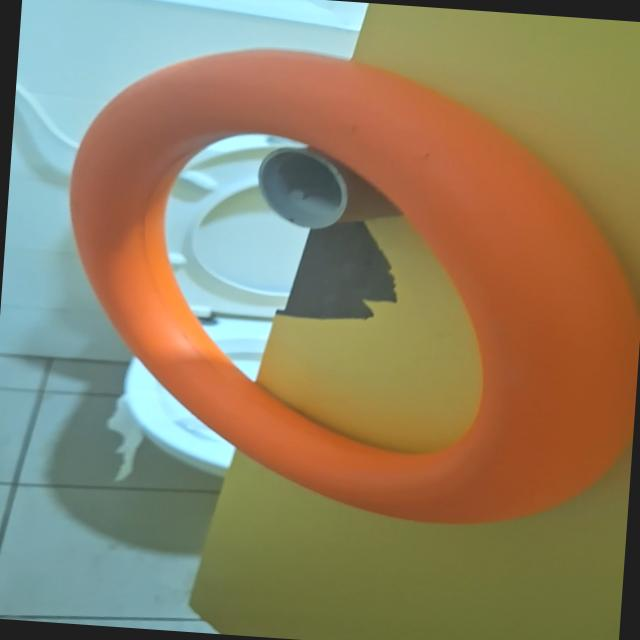note: (46, 32, 640, 537)
